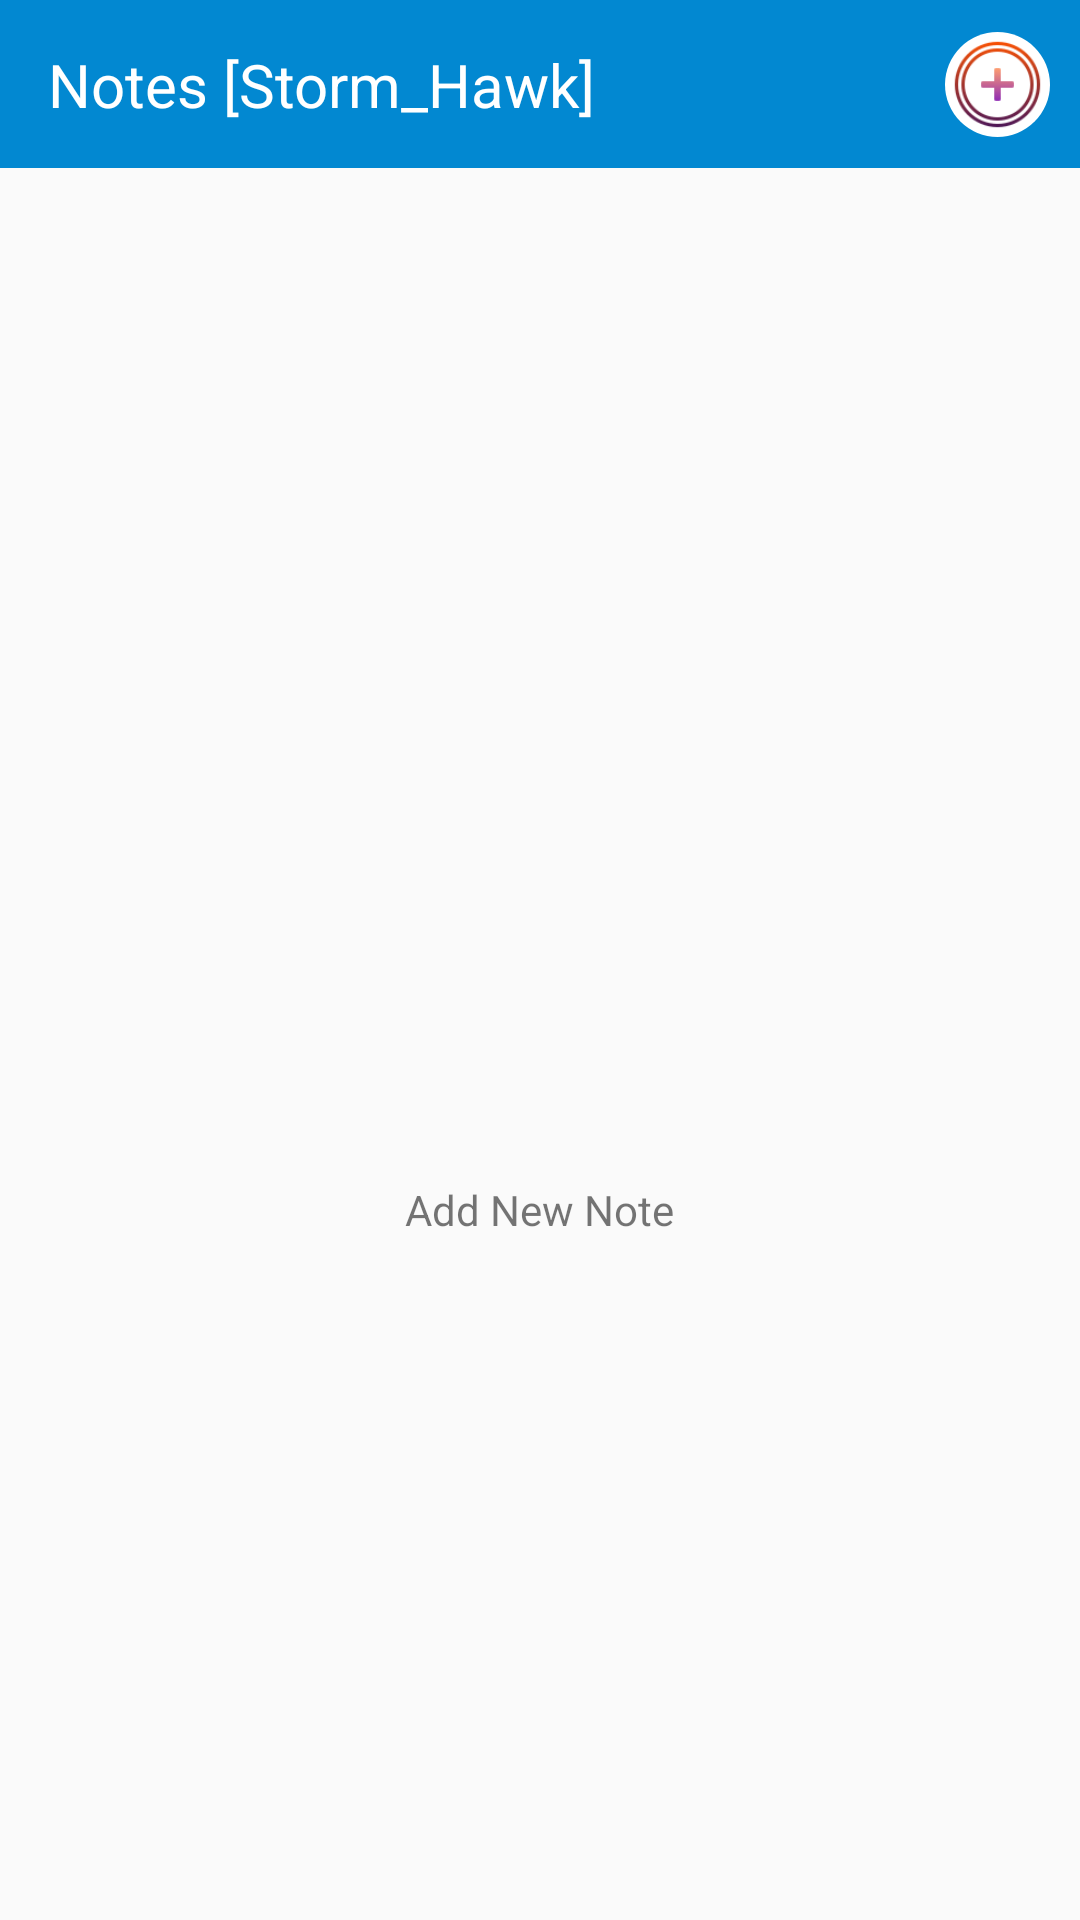

Screen size 1080px×1920px. Icon name, then its center in pixels as point (x, y):
Add: point (997, 84)
